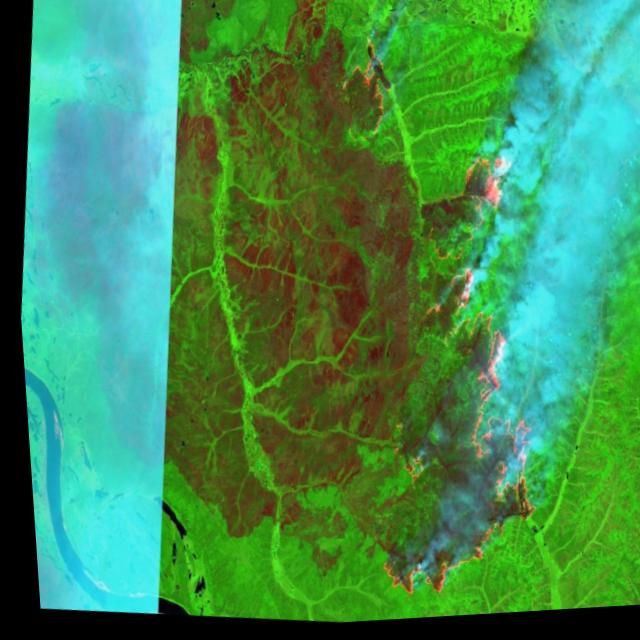fire: (345, 142, 571, 615), (335, 30, 393, 138)
